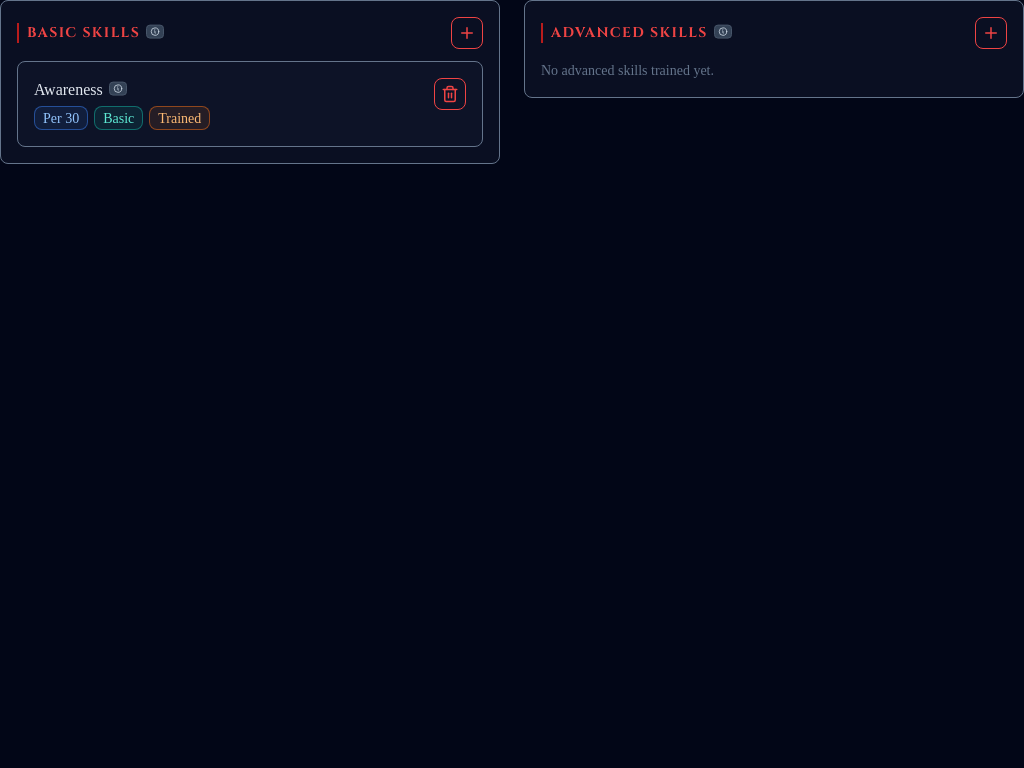
SkillsTab › explains how untrained Basic and Advanced Skill totals are used
Click the button named "Show information about Basic Skills".
click(155, 32)  # box [146, 25, 164, 39]
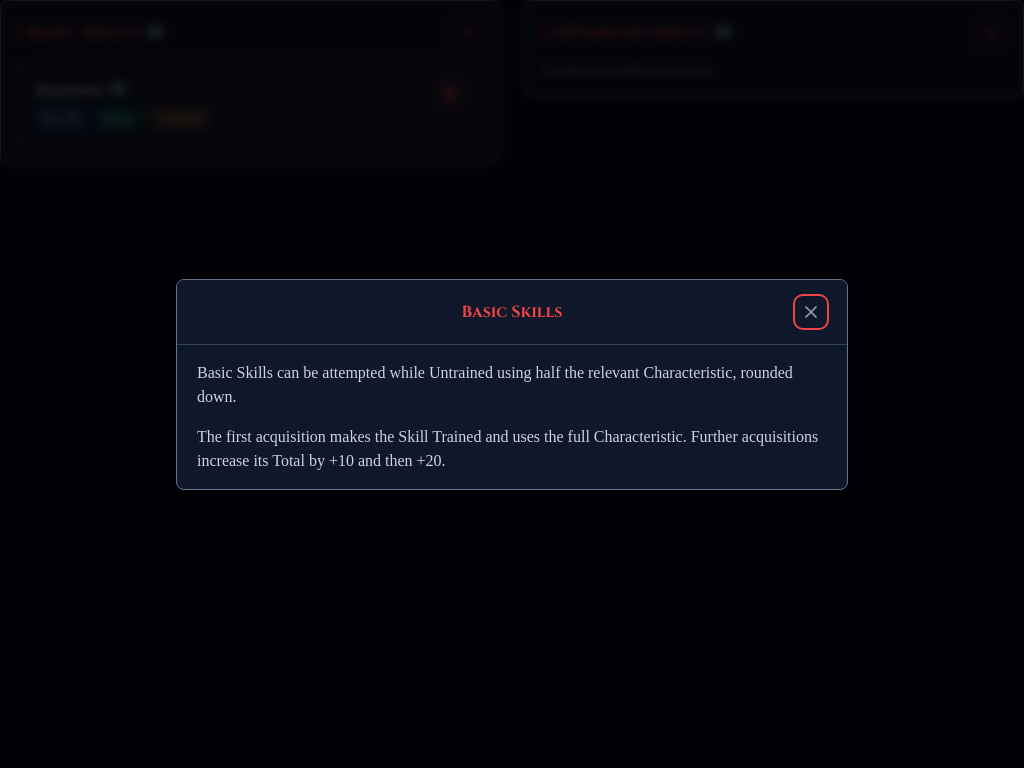
Expected: the text "half the relevant Characteristic, rounded down" is shown, [197, 364, 793, 404]
Click the button named "Close".
click(811, 312)  # box [795, 296, 827, 328]
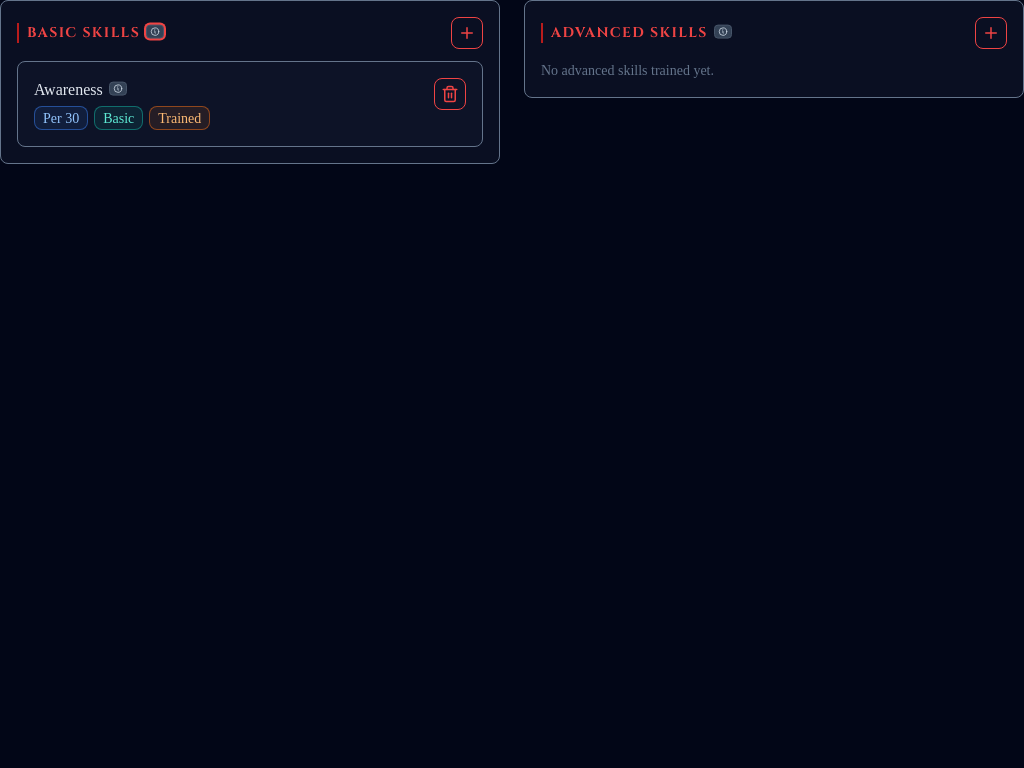
Click the button named "Show information about Advanced Skills".
click(723, 32)  # box [714, 25, 732, 39]
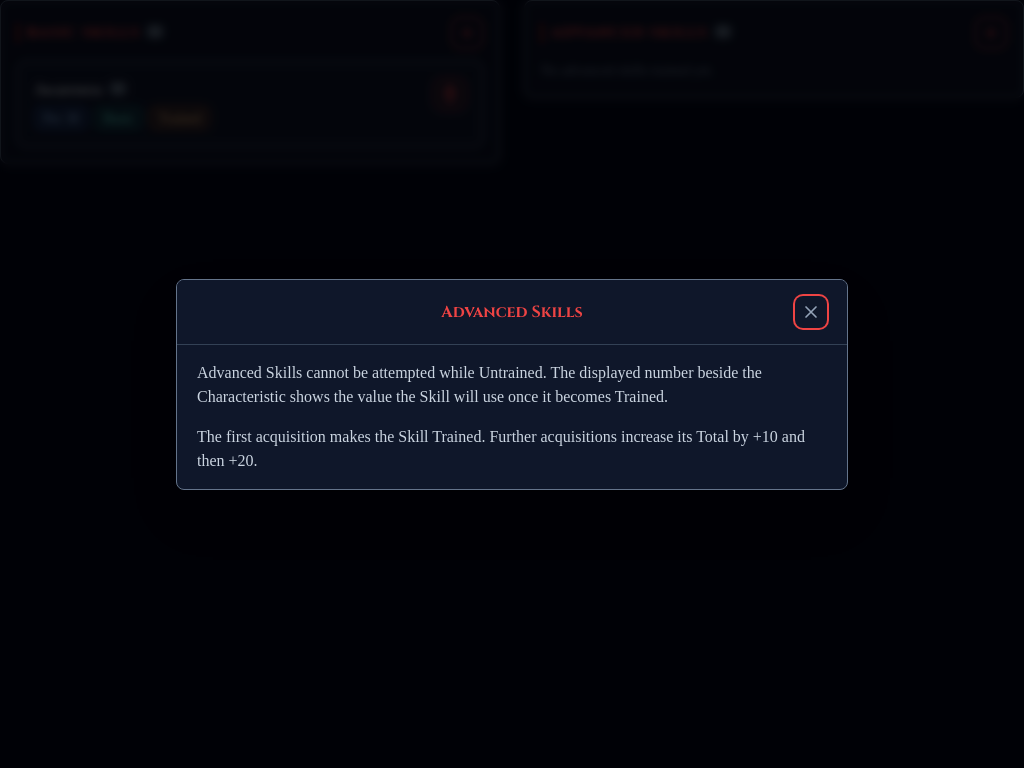
Expected: the text "displayed number beside the Characteristic shows the value" is shown, [197, 364, 762, 404]
